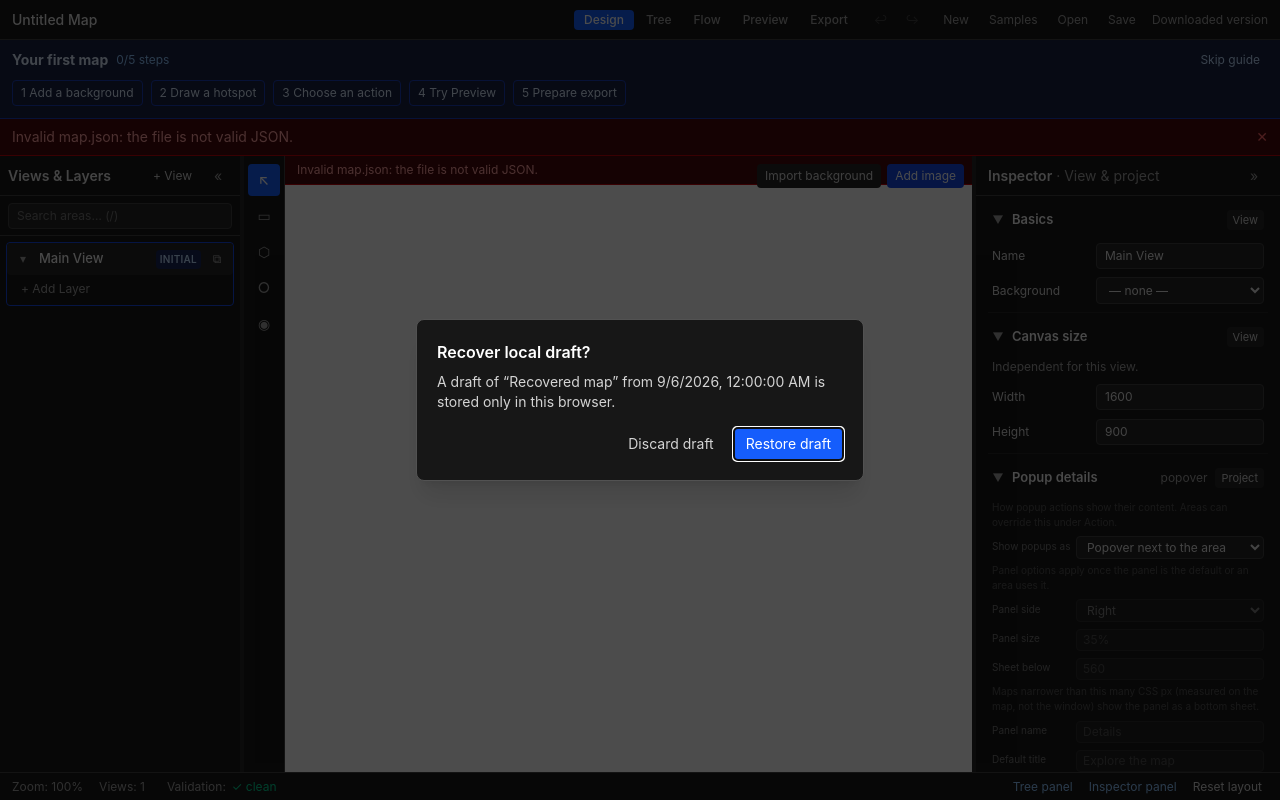
local draft protection › restores a multi-view draft containing embedded image data
Step 1. Click the button "Restore draft" → (788, 444), box [734,428,843,460]
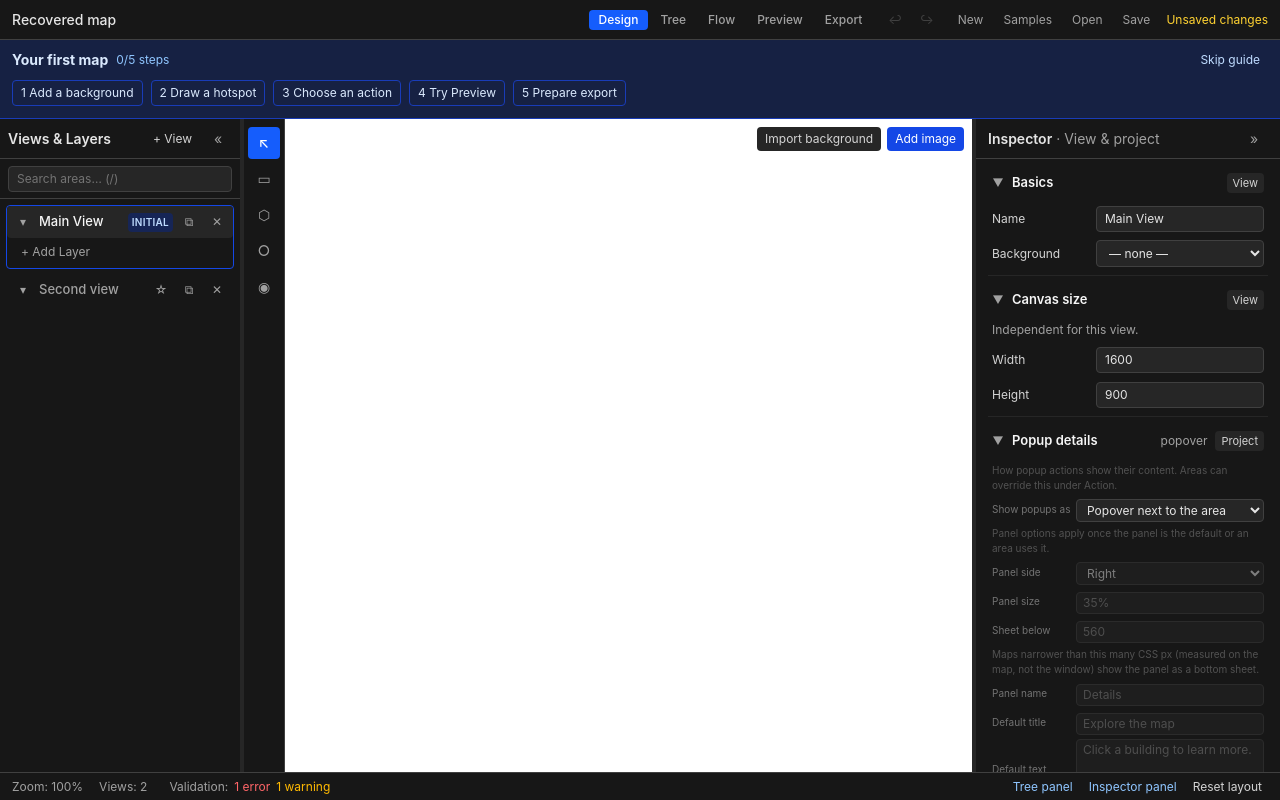
Expected: the text "Unsaved changes" is shown, [1166,12,1268,28]
